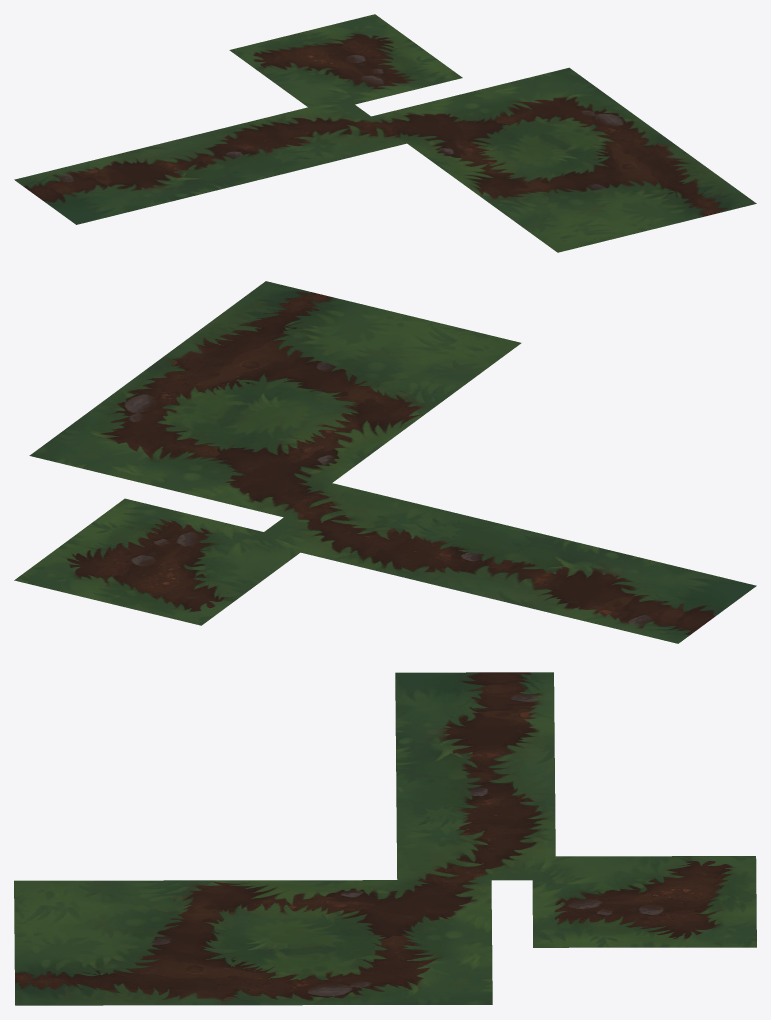
3 views of the same model, one above another, from view 1: azimuth 30°, elevation 25°; view 2: azimuth 150°, elevation 25°; view 3: azimuth 270°, elevation 25° (orthographic). The views are drawn at different scales.
Parts seen in each view (by area): view 1: visual.001; view 2: visual.001; view 3: visual.001.
Boxes of the visible parts, left/top/right/bottom form: visual.001: left=14, top=14, right=756, bottom=252; visual.001: left=14, top=281, right=756, bottom=643; visual.001: left=14, top=672, right=756, bottom=1005.
Size of what is drawn, in the model's own units: 92.42 by 0.0438 by 87.1.
1 material, 1 textured.
